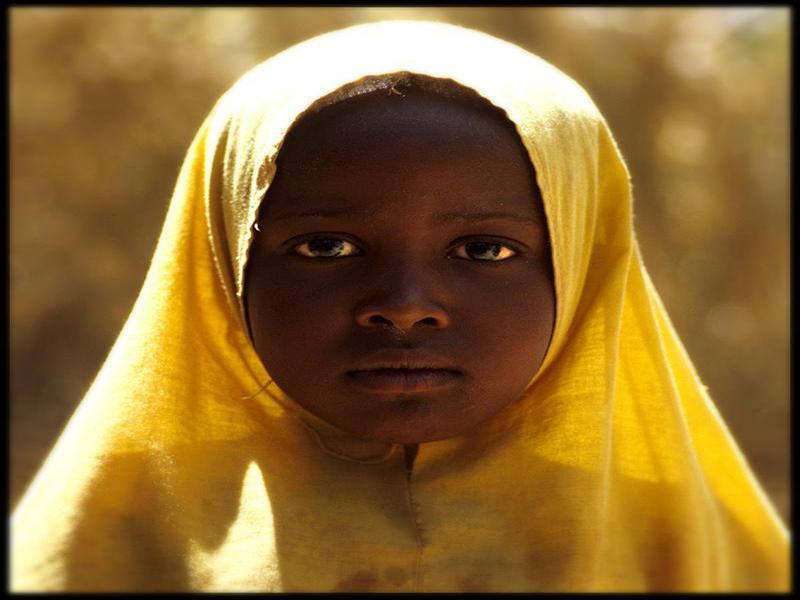person: (38, 18, 790, 600)
